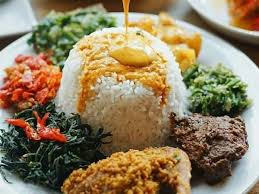Nasi padang: (4, 8, 250, 188)
